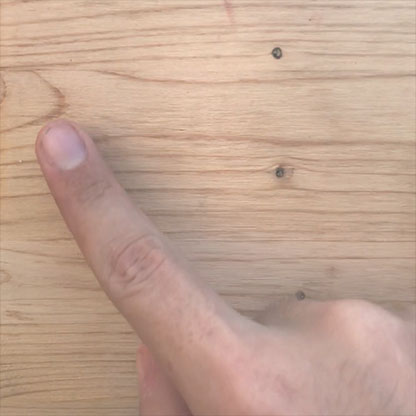fingertip: (22, 115, 99, 189)
